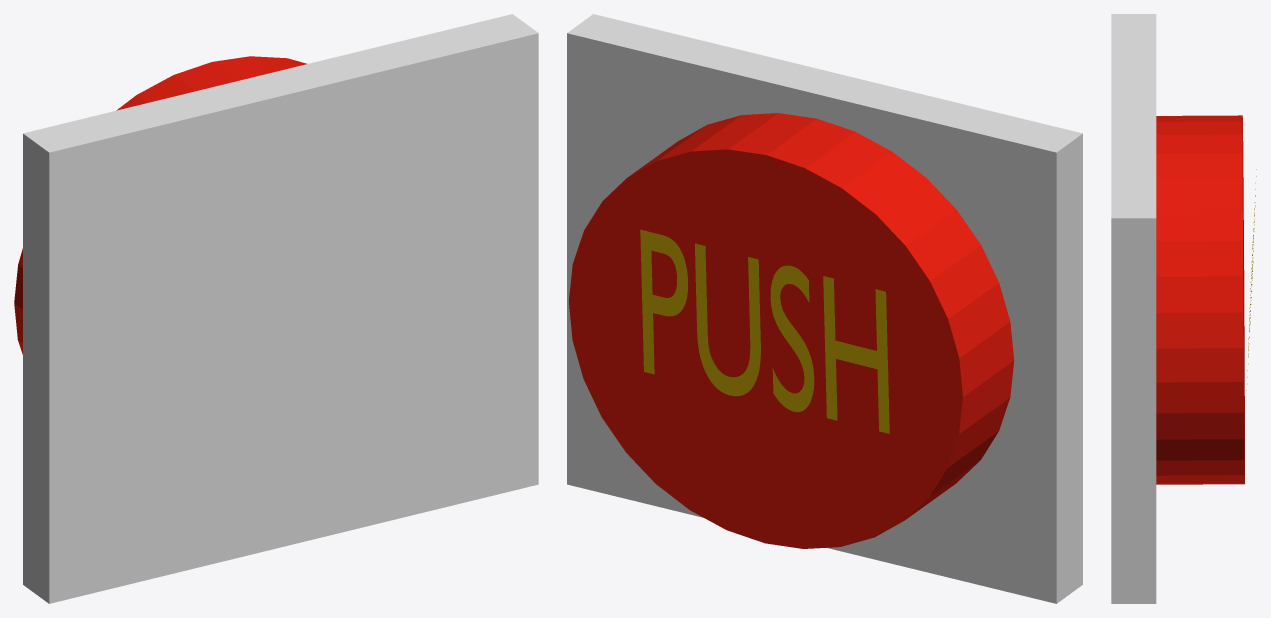
File: interupteur.fbx
3 renders of one model, left to right at view 1: azimuth 30°, elevation 25°; view 2: azimuth 150°, elevation 25°; view 3: azimuth 270°, elevation 25°, orthographic. The views are drawn at different scales.
Parts seen in each view (by area): view 1: BoxLight, interupteur; view 2: interupteur, BoxLight, Push; view 3: interupteur, BoxLight.
Boxes of the visible parts, x1=… form: BoxLight: x1=23, y1=14, x2=538, y2=603; interupteur: x1=14, y1=56, x2=306, y2=354; interupteur: x1=569, y1=113, x2=1014, y2=548; BoxLight: x1=567, y1=14, x2=1082, y2=603; Push: x1=640, y1=229, x2=889, y2=433; interupteur: x1=1156, y1=115, x2=1244, y2=484; BoxLight: x1=1111, y1=14, x2=1156, y2=603.
Size of the model in its own units: 163 by 144 by 49.13.
